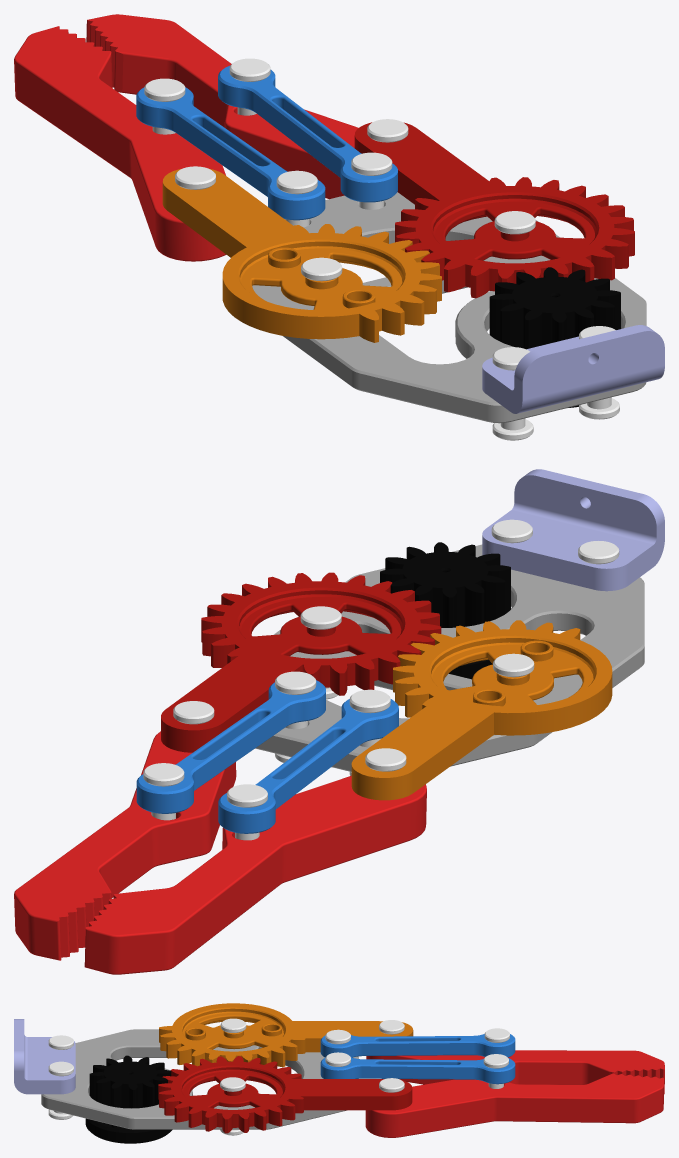
Rendered from robot-gripper-combined.glb.
3 renders of one model, top to bottom at view 1: azimuth 30°, elevation 25°; view 2: azimuth 150°, elevation 25°; view 3: azimuth 270°, elevation 25°, orthographic. The views are drawn at different scales.
Parts seen in each view (by area): view 1: Gear_link_2:imagetostl_mesh0, Gear_link_1:node_17b22a71_3c53_44de_9e87_a6a39234fe7e_mesh0, Base_Plate:imagetostl_mesh0, Gripper:node_9e82431a_d606_4a40_b96b_9d192ced82cf_mesh0, node_9e82431a_d606_4a40_b96b_9d192ced82cf_mesh0, Base_Mounting_bracket:imagetostl_mesh0, Base_Gear:imagetostl_mesh0, Link2:node_d2178037_0901_4a01_aa44_d785b9dfb99d_mesh0, Link:node_d2178037_0901_4a01_aa44_d785b9dfb99d_mesh0, Pin:imagetostl_mesh0, Pin6:imagetostl_mesh0, Pin2:imagetostl_mesh0 (+7 smaller); view 2: Gripper:node_9e82431a_d606_4a40_b96b_9d192ced82cf_mesh0, Gear_link_2:imagetostl_mesh0, Gear_link_1:node_17b22a71_3c53_44de_9e87_a6a39234fe7e_mesh0, node_9e82431a_d606_4a40_b96b_9d192ced82cf_mesh0, Base_Plate:imagetostl_mesh0, Base_Mounting_bracket:imagetostl_mesh0, Base_Gear:imagetostl_mesh0, Link:node_d2178037_0901_4a01_aa44_d785b9dfb99d_mesh0, Link2:node_d2178037_0901_4a01_aa44_d785b9dfb99d_mesh0, Pin6:imagetostl_mesh0, Pin10:imagetostl_mesh0, Pin9:imagetostl_mesh0 (+7 smaller); view 3: node_9e82431a_d606_4a40_b96b_9d192ced82cf_mesh0, Gear_link_1:node_17b22a71_3c53_44de_9e87_a6a39234fe7e_mesh0, Gear_link_2:imagetostl_mesh0, Base_Plate:imagetostl_mesh0, Gripper:node_9e82431a_d606_4a40_b96b_9d192ced82cf_mesh0, Base_Gear:imagetostl_mesh0, Link:node_d2178037_0901_4a01_aa44_d785b9dfb99d_mesh0, Link2:node_d2178037_0901_4a01_aa44_d785b9dfb99d_mesh0, Base_Mounting_bracket:imagetostl_mesh0, Pin2:imagetostl_mesh0, Pin3:imagetostl_mesh0, Pin9:imagetostl_mesh0 (+7 smaller).
Part boxes in pixels (x1=…): Gear_link_2:imagetostl_mesh0: x1=162, y1=168, x2=441, y2=342; Gear_link_1:node_17b22a71_3c53_44de_9e87_a6a39234fe7e_mesh0: x1=354, y1=122, x2=634, y2=298; Base_Plate:imagetostl_mesh0: x1=252, y1=192, x2=646, y2=423; Gripper:node_9e82431a_d606_4a40_b96b_9d192ced82cf_mesh0: x1=14, y1=26, x2=226, y2=261; node_9e82431a_d606_4a40_b96b_9d192ced82cf_mesh0: x1=86, y1=14, x2=358, y2=199; Base_Mounting_bracket:imagetostl_mesh0: x1=482, y1=325, x2=664, y2=413; Base_Gear:imagetostl_mesh0: x1=489, y1=267, x2=620, y2=407; Link2:node_d2178037_0901_4a01_aa44_d785b9dfb99d_mesh0: x1=136, y1=87, x2=325, y2=220; Link:node_d2178037_0901_4a01_aa44_d785b9dfb99d_mesh0: x1=218, y1=65, x2=397, y2=202; Pin:imagetostl_mesh0: x1=492, y1=347, x2=533, y2=440; Pin6:imagetostl_mesh0: x1=351, y1=152, x2=392, y2=209; Pin2:imagetostl_mesh0: x1=579, y1=326, x2=619, y2=419; Gripper:node_9e82431a_d606_4a40_b96b_9d192ced82cf_mesh0: x1=84, y1=775, x2=426, y2=974; Gear_link_2:imagetostl_mesh0: x1=351, y1=620, x2=612, y2=800; Gear_link_1:node_17b22a71_3c53_44de_9e87_a6a39234fe7e_mesh0: x1=161, y1=572, x2=441, y2=752; node_9e82431a_d606_4a40_b96b_9d192ced82cf_mesh0: x1=14, y1=731, x2=236, y2=960; Base_Plate:imagetostl_mesh0: x1=255, y1=544, x2=644, y2=771; Base_Mounting_bracket:imagetostl_mesh0: x1=482, y1=469, x2=664, y2=591; Base_Gear:imagetostl_mesh0: x1=380, y1=542, x2=510, y2=679; Link:node_d2178037_0901_4a01_aa44_d785b9dfb99d_mesh0: x1=136, y1=680, x2=325, y2=813; Link2:node_d2178037_0901_4a01_aa44_d785b9dfb99d_mesh0: x1=218, y1=699, x2=398, y2=833; Pin6:imagetostl_mesh0: x1=275, y1=671, x2=316, y2=762; Pin10:imagetostl_mesh0: x1=227, y1=784, x2=267, y2=840; Pin9:imagetostl_mesh0: x1=143, y1=763, x2=184, y2=820; node_9e82431a_d606_4a40_b96b_9d192ced82cf_mesh0: x1=365, y1=1073, x2=663, y2=1137; Gear_link_1:node_17b22a71_3c53_44de_9e87_a6a39234fe7e_mesh0: x1=158, y1=1056, x2=412, y2=1133; Gear_link_2:imagetostl_mesh0: x1=159, y1=1003, x2=413, y2=1067; Base_Plate:imagetostl_mesh0: x1=41, y1=1029, x2=358, y2=1129; Gripper:node_9e82431a_d606_4a40_b96b_9d192ced82cf_mesh0: x1=366, y1=1050, x2=664, y2=1094; Base_Gear:imagetostl_mesh0: x1=85, y1=1055, x2=172, y2=1143; Link:node_d2178037_0901_4a01_aa44_d785b9dfb99d_mesh0: x1=320, y1=1057, x2=515, y2=1084; Link2:node_d2178037_0901_4a01_aa44_d785b9dfb99d_mesh0: x1=320, y1=1034, x2=515, y2=1057; Base_Mounting_bracket:imagetostl_mesh0: x1=14, y1=1019, x2=75, y2=1094; Pin2:imagetostl_mesh0: x1=48, y1=1061, x2=73, y2=1119; Pin3:imagetostl_mesh0: x1=220, y1=1077, x2=245, y2=1135; Pin9:imagetostl_mesh0: x1=483, y1=1054, x2=508, y2=1088.
Size of the model in its own units: 0.0537 by 0.0158 by 0.127.
